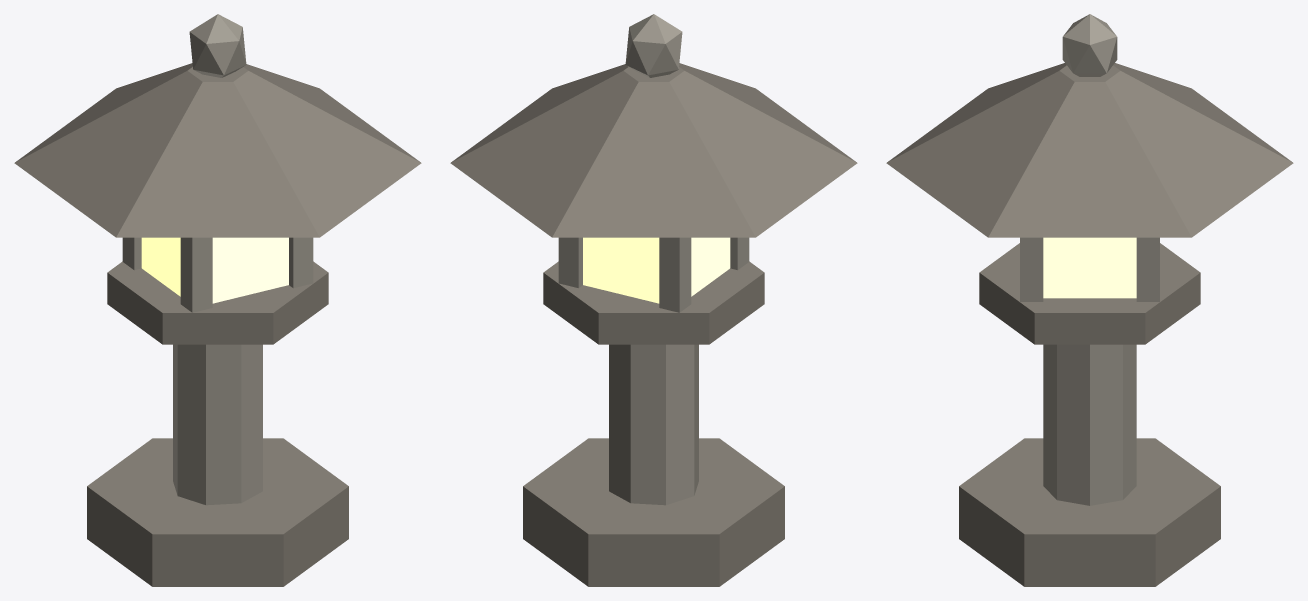
The model's file is stone-lantern.glb.
3 views of the same model, side by side, from view 1: azimuth 30°, elevation 25°; view 2: azimuth 150°, elevation 25°; view 3: azimuth 270°, elevation 25° (orthographic).
Parts seen in each view (by area): view 1: stone-lantern; view 2: stone-lantern; view 3: stone-lantern.
Boxes of the visible parts, x1,y1,x2,y2 form: stone-lantern: (14, 14, 421, 586); stone-lantern: (450, 14, 857, 586); stone-lantern: (886, 14, 1293, 586).
Size of the model in its own units: 1.21 by 1.99 by 1.4.
